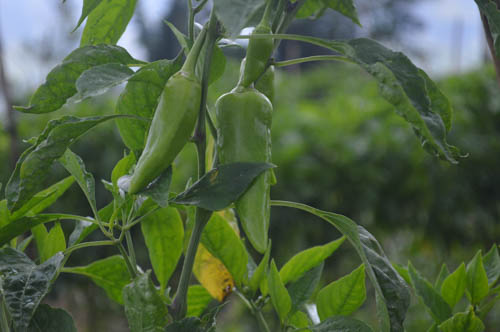ChiliPepper: (122, 74, 203, 202), (218, 90, 273, 252), (242, 29, 274, 92)
